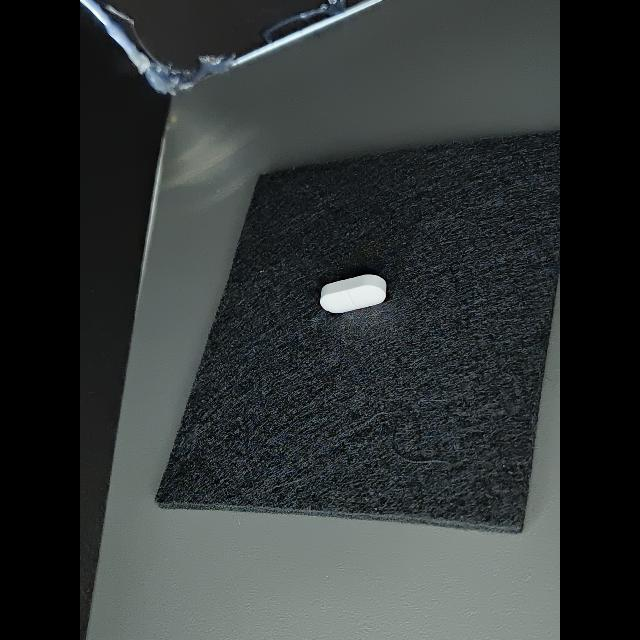Intact Pill: (320, 274, 386, 313)
